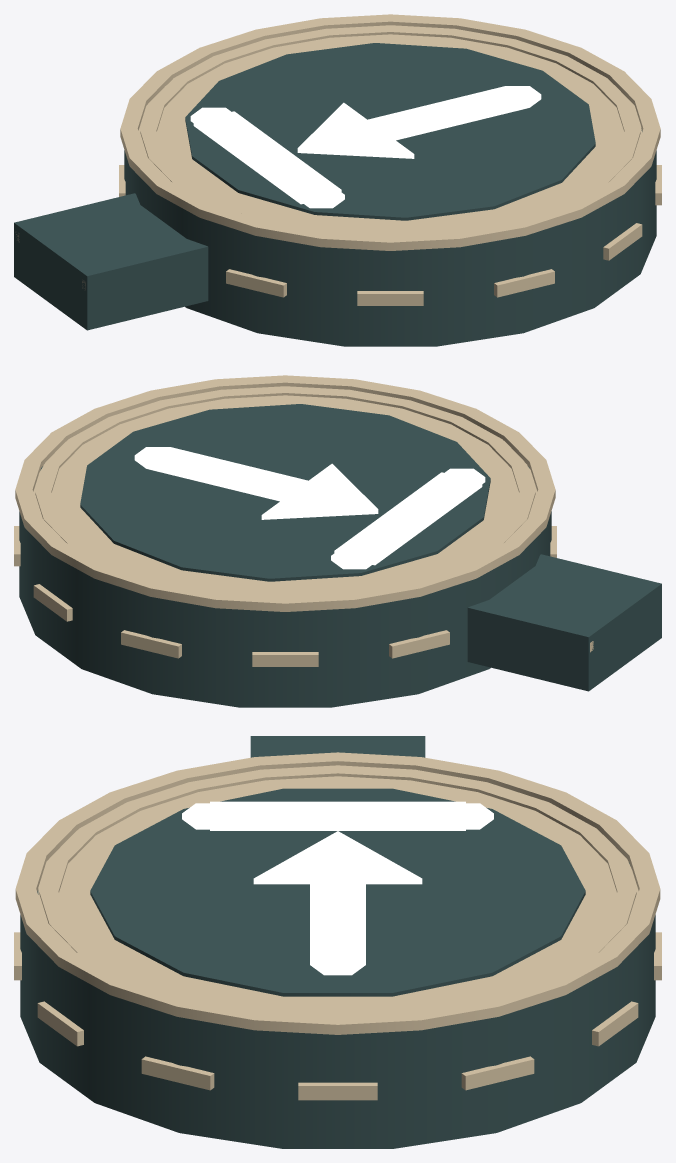
Rendered from Relay_Button_Retract_v2_lab2.glb.
3 views of the same model, one above another, from view 1: azimuth 30°, elevation 25°; view 2: azimuth 150°, elevation 25°; view 3: azimuth 270°, elevation 25° (orthographic). The views are drawn at different scales.
Parts seen in each view (by area): view 1: Relay_Button_Retract_v2, Glyph, Strut; view 2: Relay_Button_Retract_v2, Glyph, Strut; view 3: Relay_Button_Retract_v2, Glyph, Strut.
Part boxes in pixels (box(x1,y1,x2,y2)): Relay_Button_Retract_v2: box(119, 14, 661, 346); Glyph: box(185, 43, 595, 220); Strut: box(14, 193, 208, 330); Relay_Button_Retract_v2: box(14, 375, 556, 707); Glyph: box(80, 404, 490, 581); Strut: box(467, 554, 661, 691); Relay_Button_Retract_v2: box(14, 752, 661, 1148); Glyph: box(90, 788, 585, 996); Strut: box(250, 736, 425, 757).
Size of the model in its own units: 4.99 by 1.61 by 4.08.
